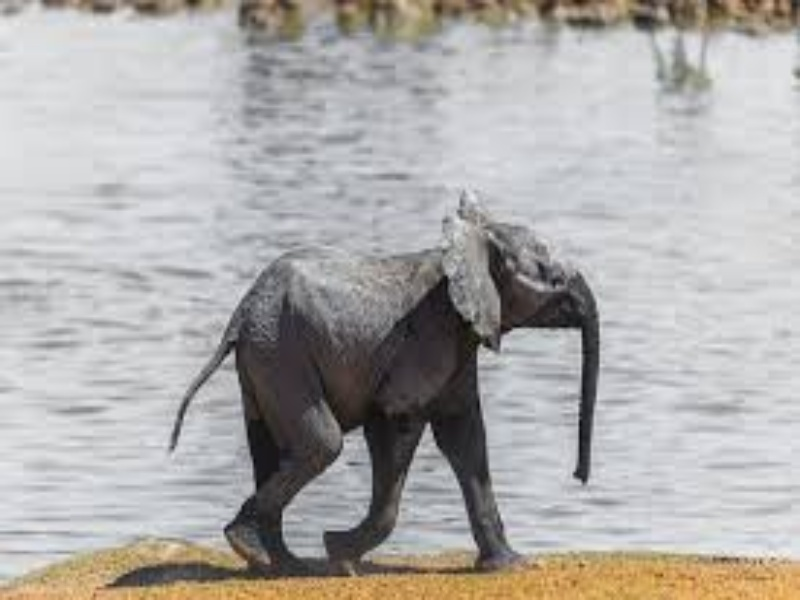elephant: (174, 175, 613, 575)
